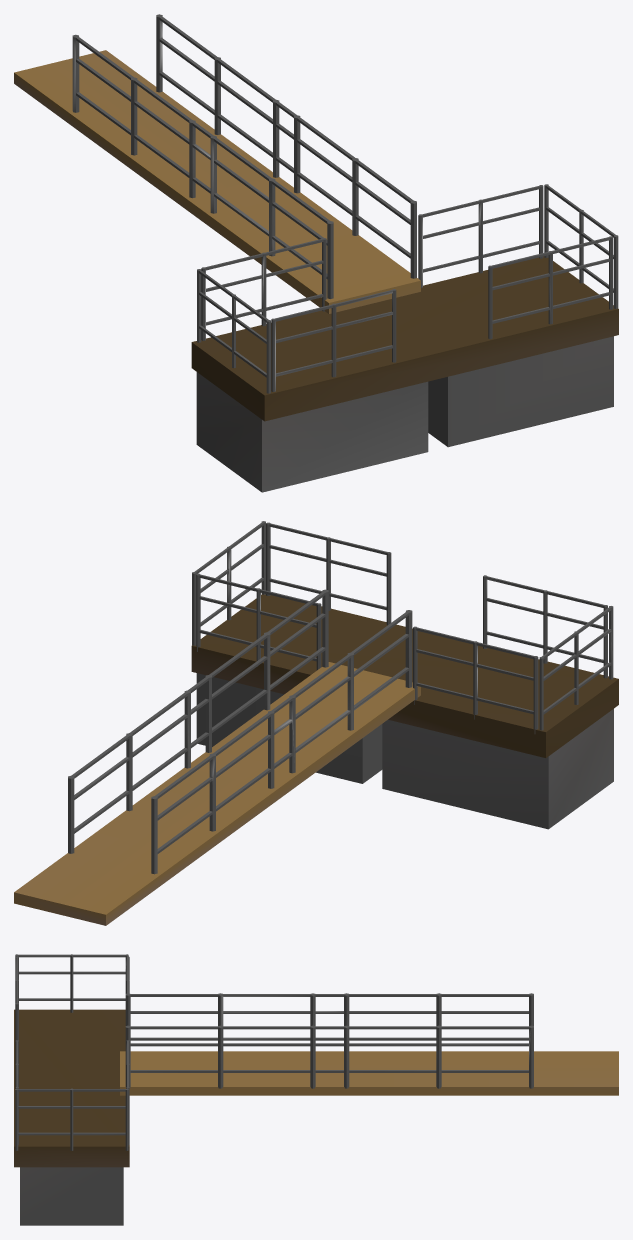
The model's file is DOCKS2.fbx.
3 views of the same model, one above another, from view 1: azimuth 30°, elevation 25°; view 2: azimuth 150°, elevation 25°; view 3: azimuth 270°, elevation 25° (orthographic). The views are drawn at different scales.
Visible parts, largest first — view 1: Cube; view 2: Cube; view 3: Cube.
Part boxes in pixels (box(x1,y1,x2,y2)): Cube: box(14, 14, 618, 492); Cube: box(14, 521, 618, 925); Cube: box(14, 954, 618, 1225).
Bounding box in the file's own units: 988 × 496 × 1838.
